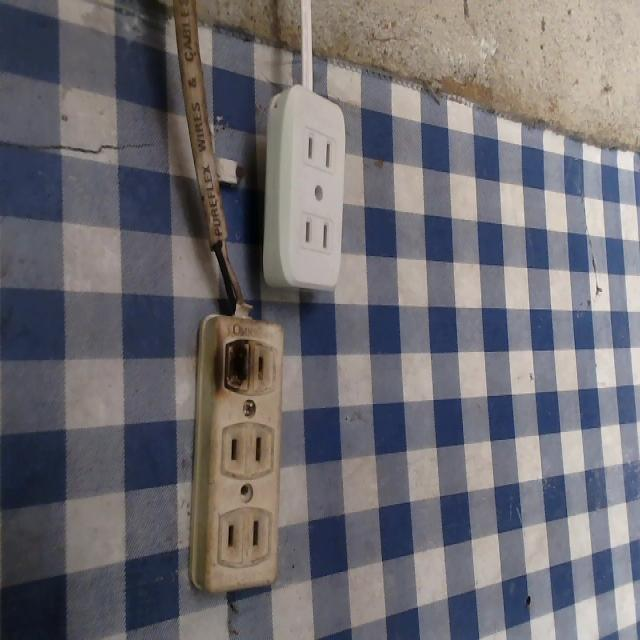-: (215, 333, 257, 399)
